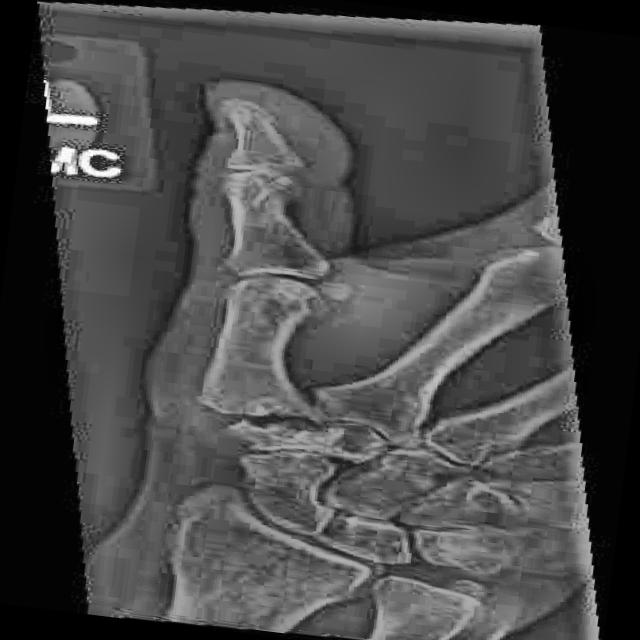fingers positive: (189, 388, 359, 451)
